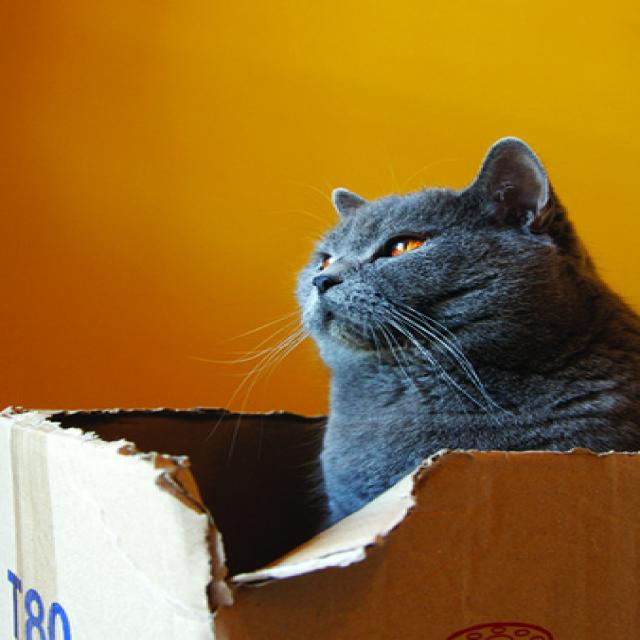British Shorthair: (288, 133, 640, 524)
